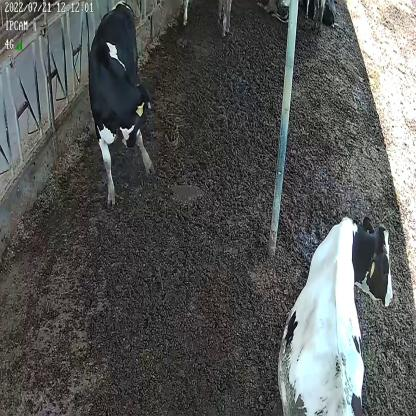cow: (276, 212, 395, 416), (88, 3, 156, 202)
